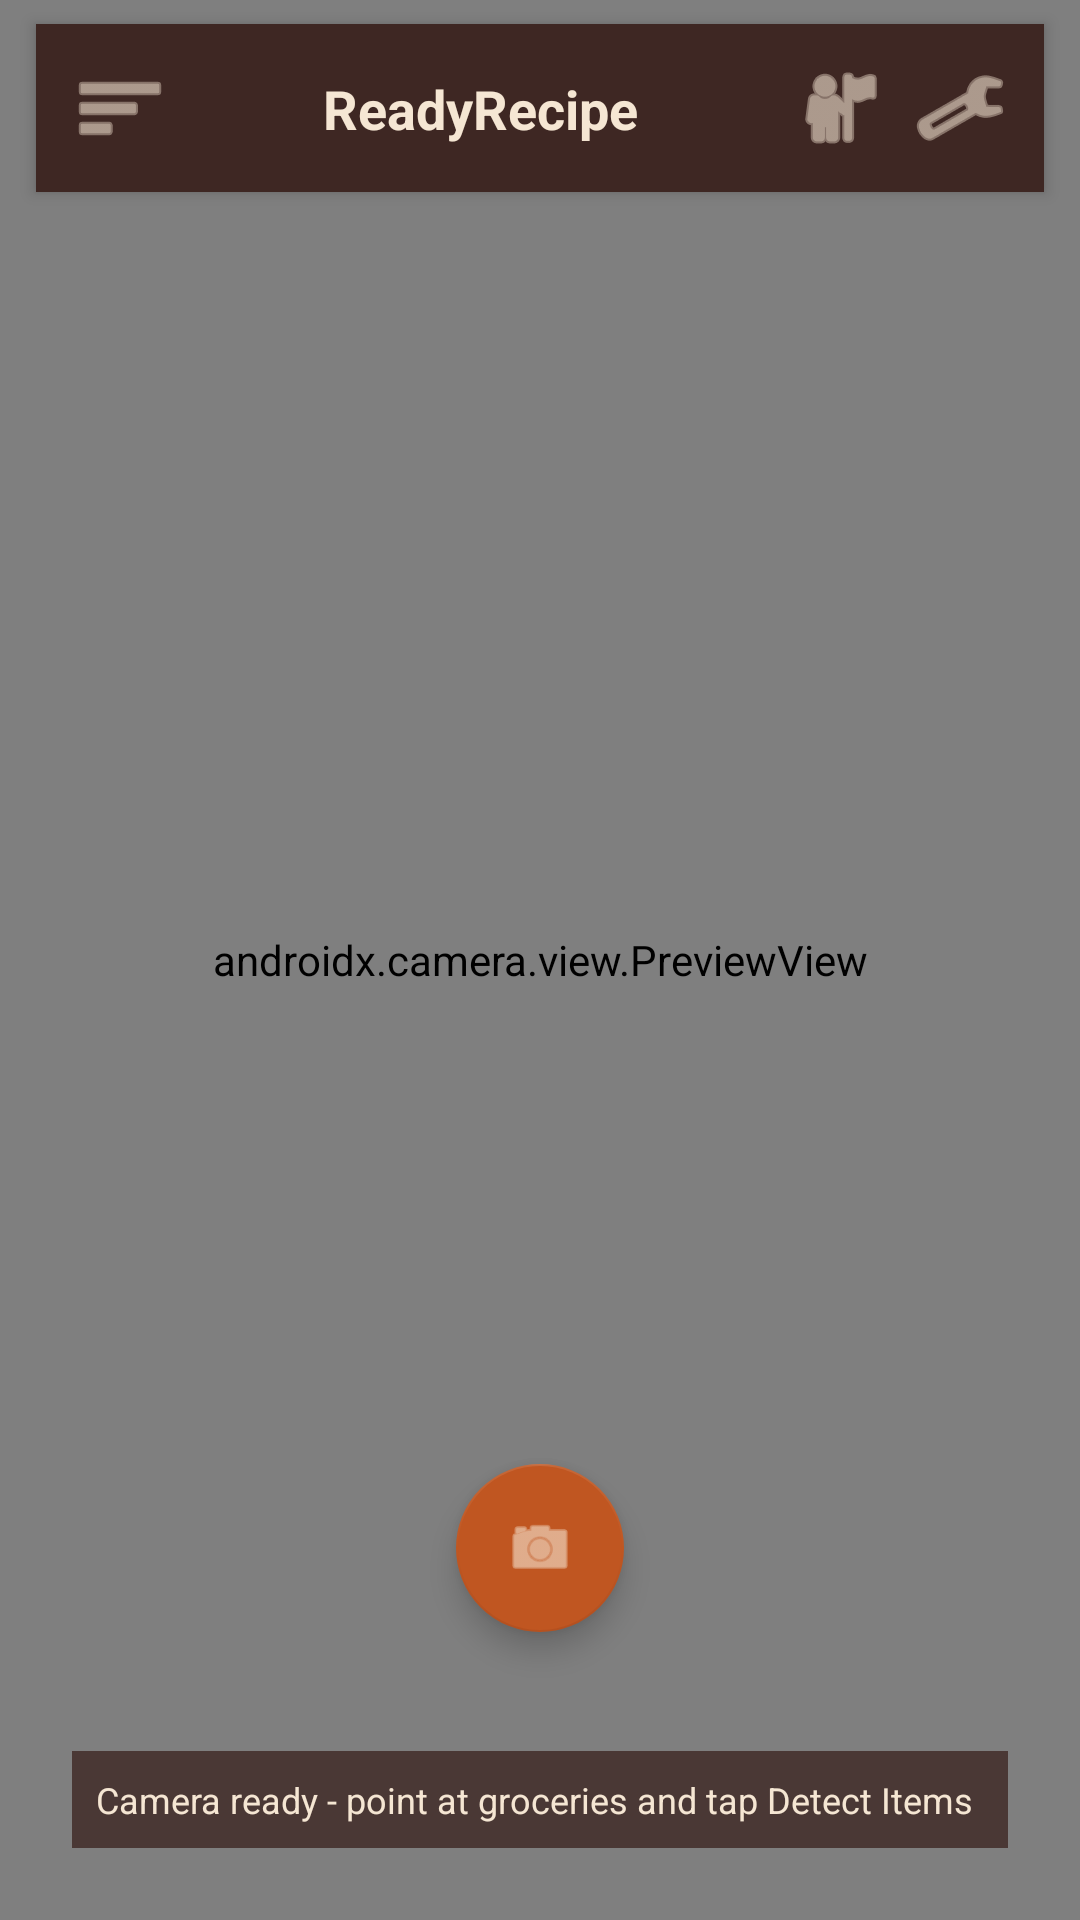

Icon click points for this 1080*1920 phone screenshot, format (x=x, y=y):
Menu: (x=120, y=108)
Profile: (x=841, y=108)
Settings: (x=960, y=108)
